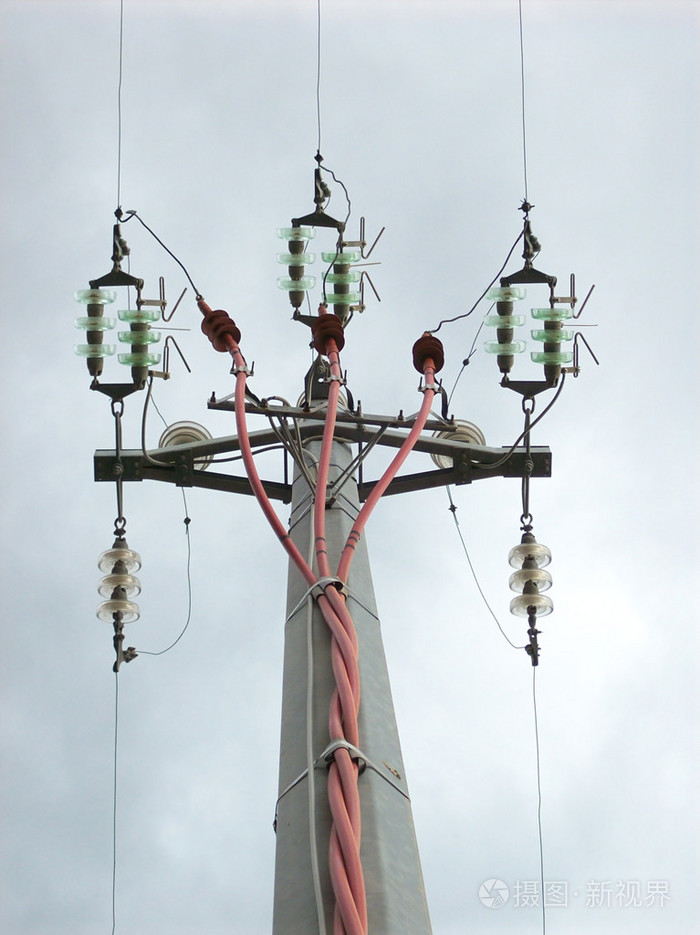insulator: (504, 541, 556, 619), (96, 544, 143, 627), (479, 281, 525, 362), (68, 284, 116, 361), (115, 306, 169, 372), (529, 305, 578, 369), (319, 245, 366, 311), (271, 226, 316, 294), (199, 307, 244, 348), (410, 336, 446, 374)
